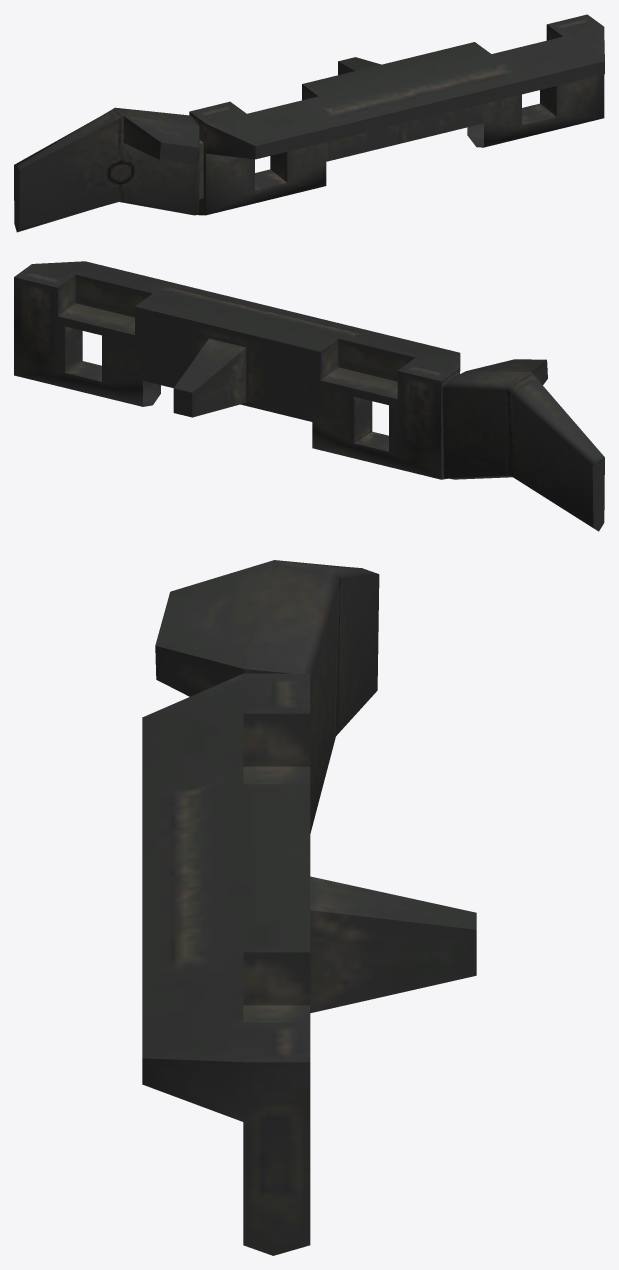
3 views of the same model, one above another, from view 1: azimuth 30°, elevation 25°; view 2: azimuth 150°, elevation 25°; view 3: azimuth 270°, elevation 25° (orthographic). The views are drawn at different scales.
Parts seen in each view (by area): view 1: set_0_group_0; view 2: set_0_group_0; view 3: set_0_group_0.
Part boxes in pixels (<box>): set_0_group_0: <box>14,14,604,232</box>; set_0_group_0: <box>14,261,604,531</box>; set_0_group_0: <box>142,560,476,1255</box>.
Size of the model in its own units: 0.7724 by 0.1549 by 0.2.
Materials: 1 (1 with a texture image).
